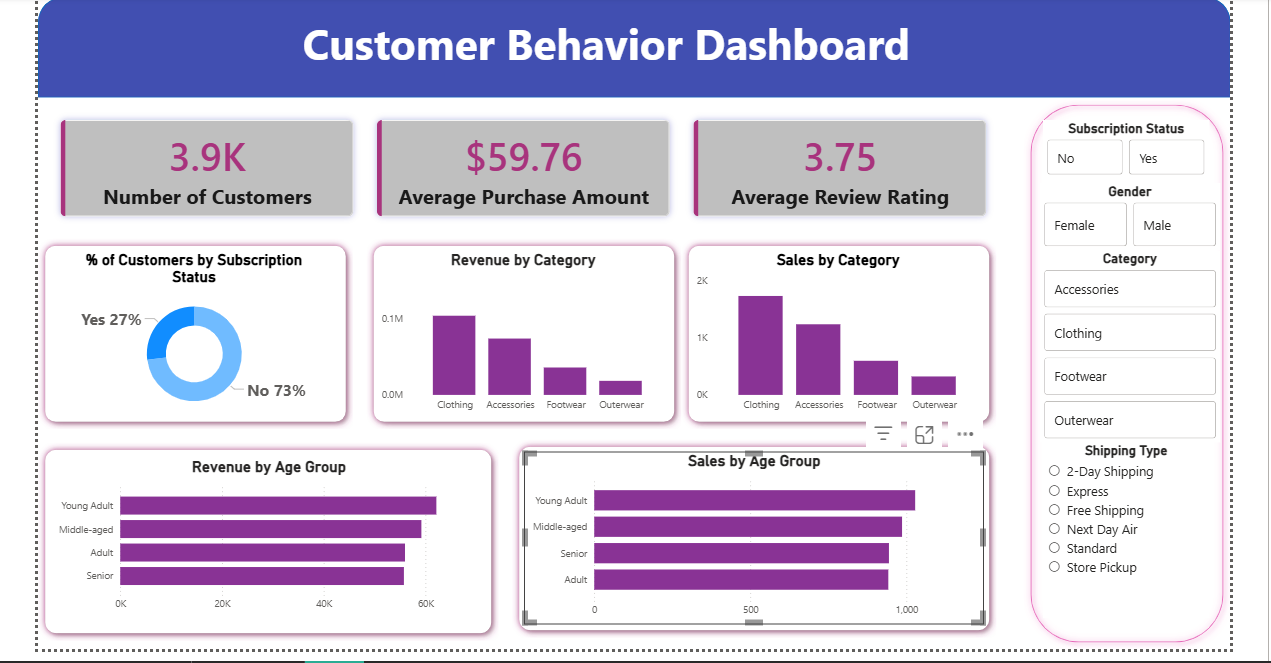

The dashboard page shown, as its layout file describes it:
{"tool":"powerbi","page":{"name":"Page 1","canvas":[1500,820],"ordinal":0},"visuals":[{"type":"cardVisual","fields":{"Data":["public customer.Number of Customers","public customer.Average Purchase Amount","public customer.Average Review Rating"]},"box":[0,126.4,1220.6,177.3],"z":0},{"type":"shape","box":[0,0,1499.8,126.4],"z":1000},{"type":"textbox","box":[71.7,17,1286.6,94.3],"z":2000},{"type":"shape","box":[0,303.7,396.2,239.6],"z":3000},{"type":"donutChart","title":"% of Customers by Subscription Status","fields":{"Category":["public customer.subscription_status"],"Y":["CountNonNull(public customer.customer_id)"]},"box":[15.1,318.8,362.2,211.3],"z":4000},{"type":"shape","box":[413.2,303.7,396.2,239.6],"z":5000},{"type":"shape","box":[809.3,303.7,396.2,239.6],"z":6000},{"type":"clusteredColumnChart","title":"Revenue by Category","fields":{"Y":["Sum(public customer.purchase_amount)"],"Category":["public customer.category"]},"box":[426.4,318.8,367.9,211.3],"z":7000},{"type":"clusteredColumnChart","title":"Sales by Category","fields":{"Y":["CountNonNull(public customer.customer_id)"],"Category":["public customer.category"]},"box":[822.5,318.8,367.9,211.3],"z":8000},{"type":"shape","box":[1239.5,126.4,260.3,694.2],"z":9000},{"type":"advancedSlicerVisual","fields":{"Values":["public customer.subscription_status"]},"box":[1264,154.7,209.4,73.6],"z":10000},{"type":"advancedSlicerVisual","fields":{"Values":["public customer.gender"]},"box":[1260.2,233.9,226.4,84.9],"z":11000},{"type":"advancedSlicerVisual","fields":{"Values":["public customer.category"]},"box":[1260.2,318.8,226.4,241.5],"z":12000},{"type":"listSlicer","fields":{"Values":["public customer.shipping_type"]},"box":[1264,560.3,209.4,220.7],"z":13000},{"type":"clusteredBarChart","title":"Sales by Age Group","fields":{"Y":["CountNonNull(public customer.customer_id)"],"Category":["public customer.age_group"]},"box":[626.3,573.5,579.2,217],"z":14000},{"type":"clusteredBarChart","title":"Revenue by Age Group","fields":{"Y":["Sum(public customer.purchase_amount)"],"Category":["public customer.age_group"]},"box":[28.3,579.2,550.9,201.9],"z":17000}]}

Visuals, with their boxes on the page's 1500x820 design canvas (x1, y1, x2, y2). These are canvas units, not pixel positions in the 1271x663 screenshot, which may show the page scaled, cropped or inside an application window:
cardVisual - public customer.Number of Customers x public customer.Average Purchase Amount: (x1=0, y1=126, x2=1221, y2=304)
shape: (x1=0, y1=0, x2=1500, y2=126)
textbox: (x1=72, y1=17, x2=1358, y2=111)
shape: (x1=0, y1=304, x2=396, y2=543)
"% of Customers by Subscription Status" donutChart: (x1=15, y1=319, x2=377, y2=530)
shape: (x1=413, y1=304, x2=809, y2=543)
shape: (x1=809, y1=304, x2=1206, y2=543)
"Revenue by Category" clusteredColumnChart: (x1=426, y1=319, x2=794, y2=530)
"Sales by Category" clusteredColumnChart: (x1=822, y1=319, x2=1190, y2=530)
shape: (x1=1240, y1=126, x2=1500, y2=821)
advancedSlicerVisual - public customer.subscription_status: (x1=1264, y1=155, x2=1473, y2=228)
advancedSlicerVisual - public customer.gender: (x1=1260, y1=234, x2=1487, y2=319)
advancedSlicerVisual - public customer.category: (x1=1260, y1=319, x2=1487, y2=560)
listSlicer - public customer.shipping_type: (x1=1264, y1=560, x2=1473, y2=781)
"Sales by Age Group" clusteredBarChart: (x1=626, y1=574, x2=1206, y2=790)
"Revenue by Age Group" clusteredBarChart: (x1=28, y1=579, x2=579, y2=781)
